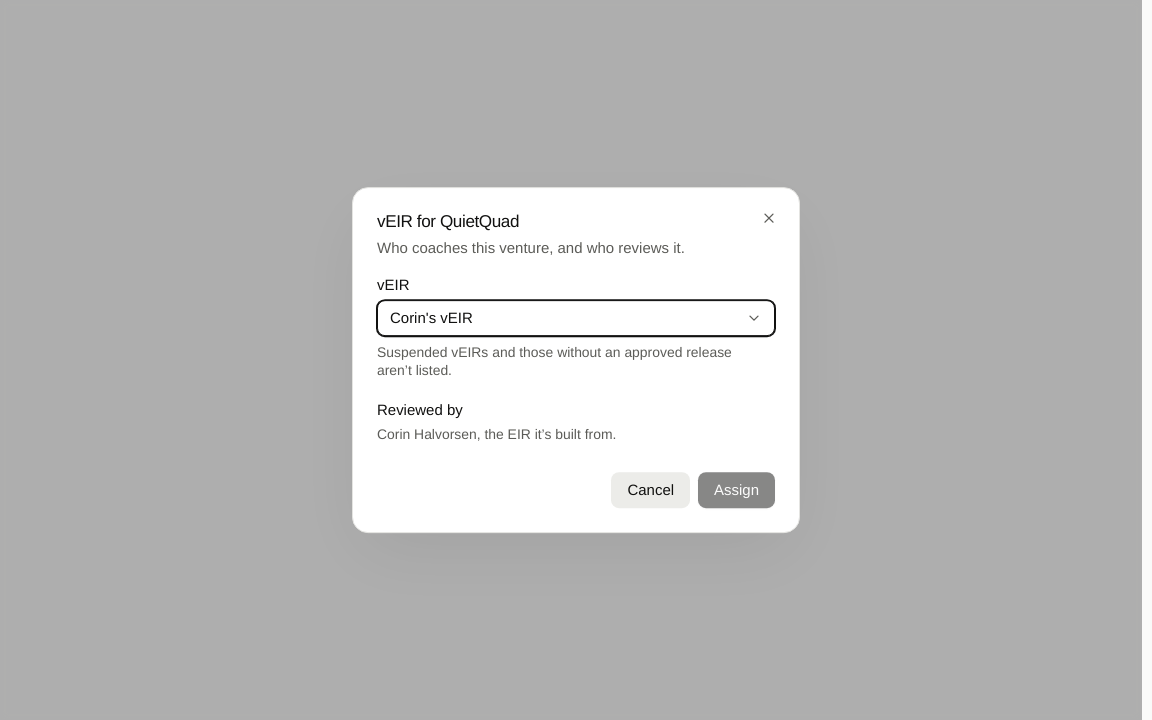
Test: AssignDialog (vEIRs & assignments) › shows why an assignment was refused
The width and height of the screenshot is (1152, 720).
Click the dropdown labelled "vEIR" at (431, 318), box 377,300 -> 775,336
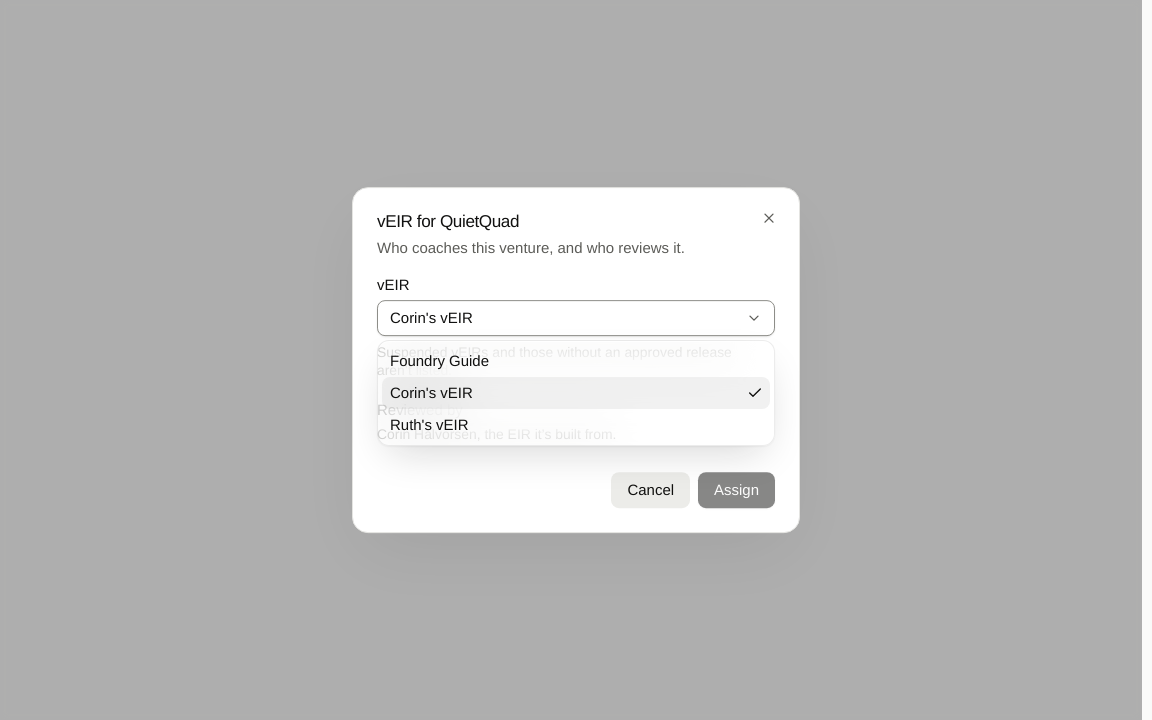
Click the option "Ruth's vEIR" at (429, 424), box 390,416 -> 469,433
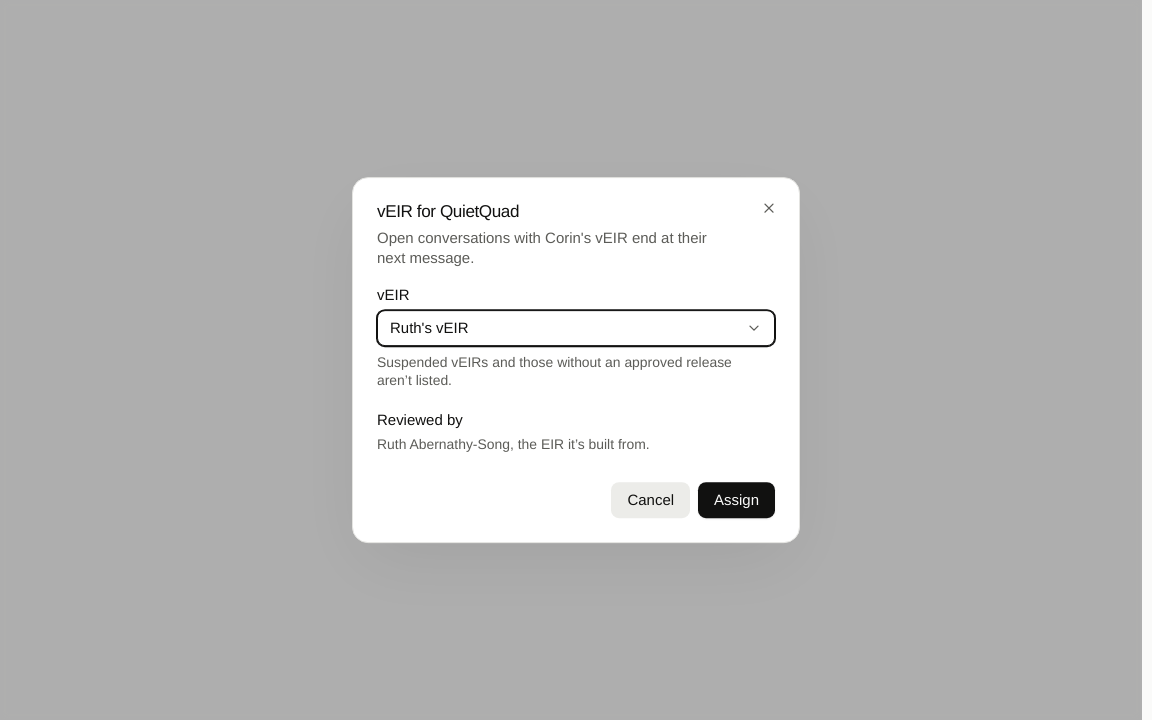
Click the button "Assign" at (737, 500), box 698,482 -> 775,518
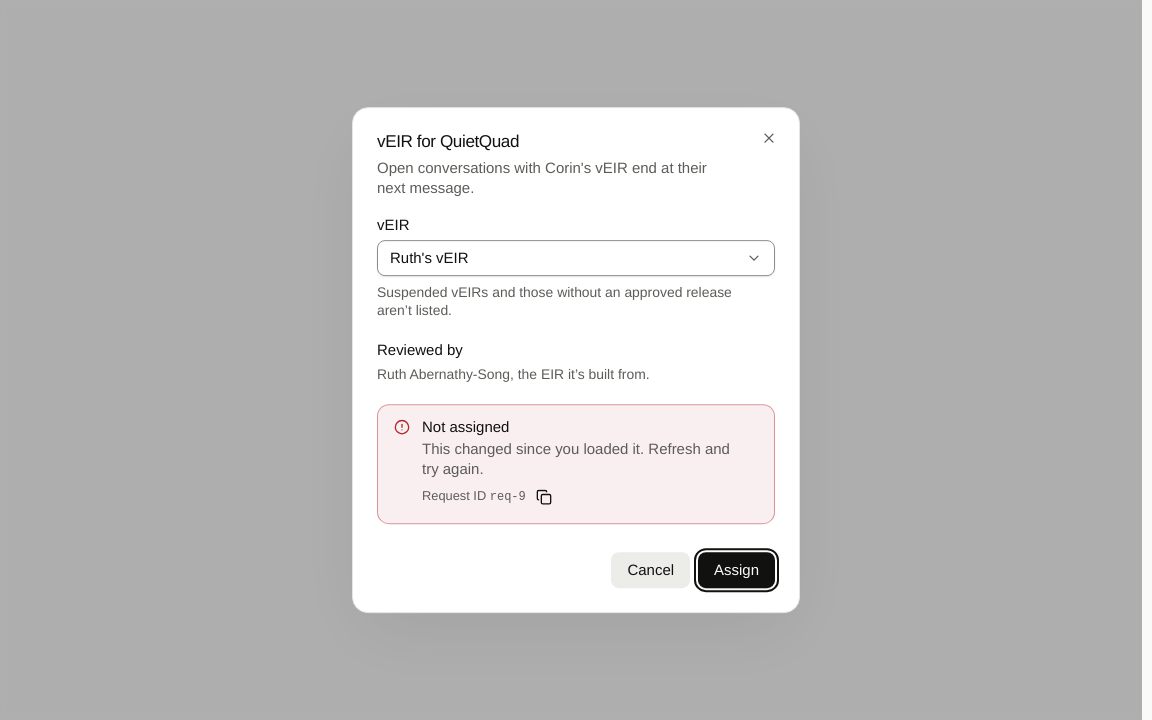
Now the text "Not assigned" is shown, box 422,418 -> 509,435
